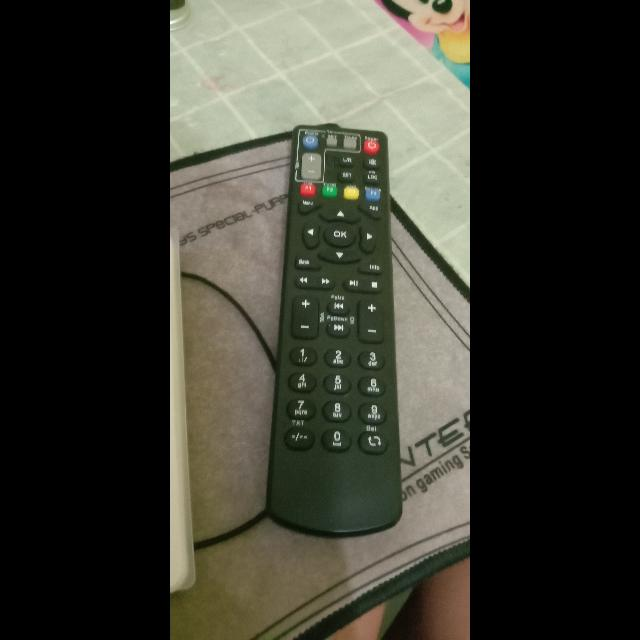TV-Remote-Control: (284, 126, 400, 550)
